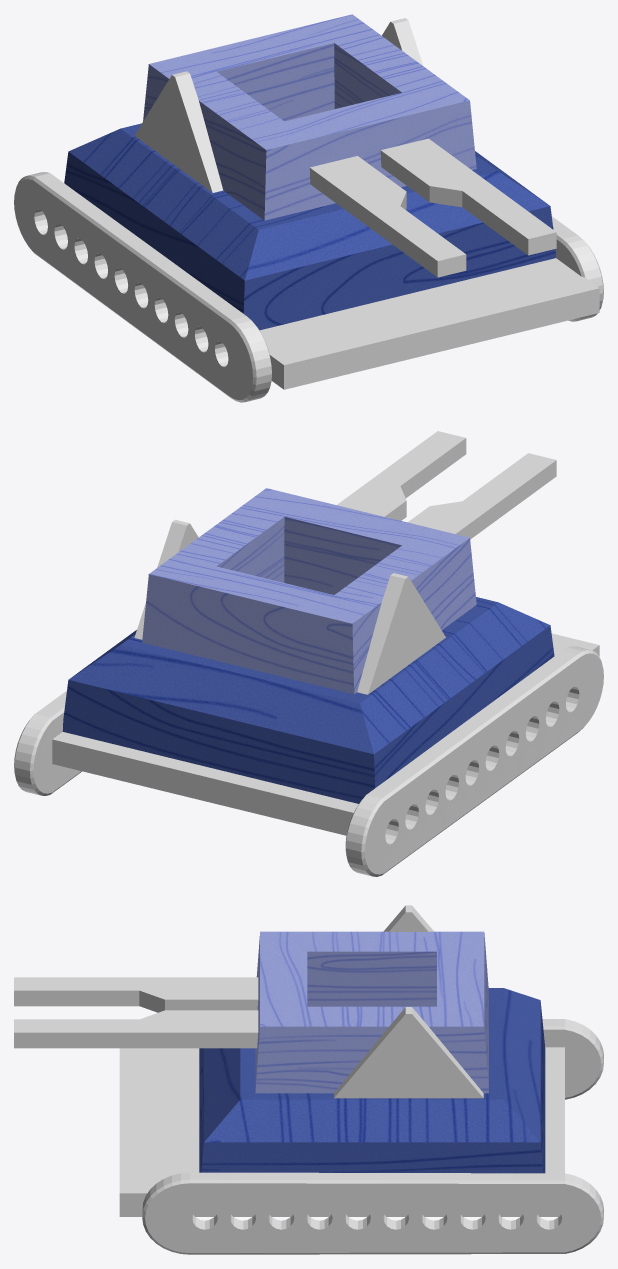
File: blue_tank.fbx
3 renders of one model, top to bottom at view 1: azimuth 30°, elevation 25°; view 2: azimuth 150°, elevation 25°; view 3: azimuth 270°, elevation 25°, orthographic. The views are drawn at different scales.
Parts seen in each view (by area): view 1: Base, Center, tracks, Base_Lower, Prongs, Triangles; view 2: Base, Center, tracks, Base_Lower, Prongs, Triangles; view 3: tracks, Base, Center, Base_Lower, Prongs, Triangles.
Boxes of the visible parts, x1,y1,x2,y2 form: Base: (64,123,555,330); Center: (143,14,476,220); tracks: (14,172,603,402); Base_Lower: (259,258,599,389); Prongs: (309,138,556,277); Triangles: (134,18,423,192); Base: (62,597,554,803); Center: (142,488,476,694); tracks: (14,646,603,876); Base_Lower: (52,633,599,835); Prongs: (336,431,556,539); Triangles: (134,519,445,694); tracks: (142,1019,603,1254); Base: (199,988,545,1173); Center: (255,931,488,1093); Base_Lower: (119,1047,564,1216); Prongs: (14,977,258,1048); Triangles: (334,905,483,1098).
Size of the model in its own units: 809 by 495 by 1234.
1 material, 1 textured.
